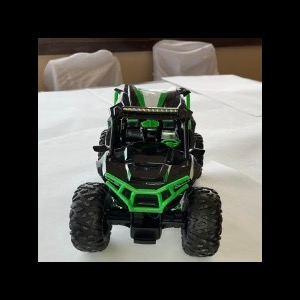polaris: (68, 82, 224, 258)
